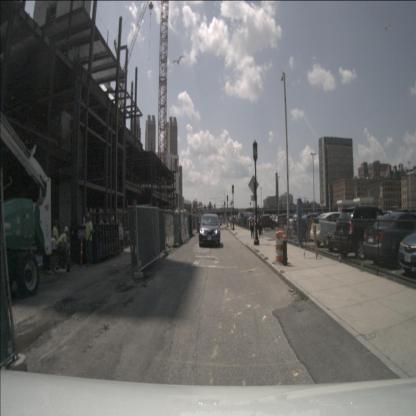human-pedestrian-adult: (257, 214, 262, 238), (249, 214, 254, 238), (260, 212, 263, 236), (229, 214, 232, 228)
movable_object-trafficcone: (272, 228, 288, 265), (67, 233, 73, 266), (78, 236, 84, 265), (227, 220, 229, 228)
vehicle-car: (334, 205, 395, 260), (362, 212, 416, 270), (323, 215, 385, 255), (310, 211, 365, 250), (293, 211, 339, 243), (398, 232, 416, 275), (199, 213, 220, 247), (255, 216, 278, 230), (238, 211, 256, 226), (288, 214, 305, 228), (274, 214, 290, 227)
